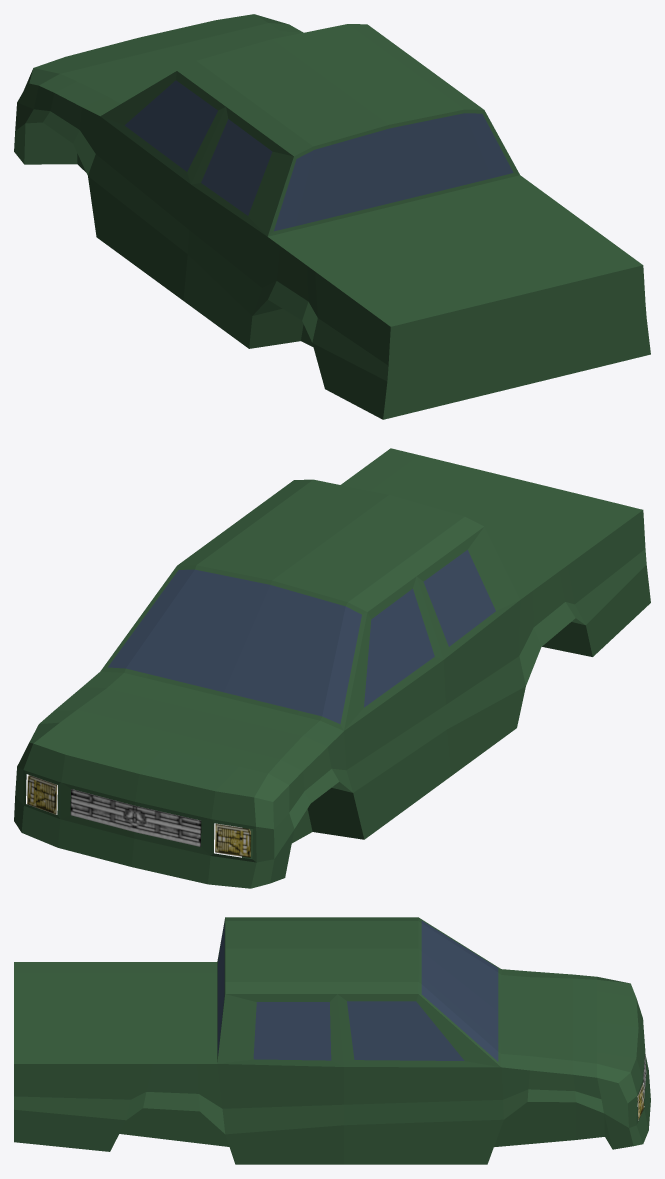
The model's file is lowPoly_car.gltf.
3 renders of one model, top to bottom at view 1: azimuth 30°, elevation 25°; view 2: azimuth 150°, elevation 25°; view 3: azimuth 270°, elevation 25°, orthographic. The views are drawn at different scales.
Visible parts, largest first — view 1: Cube; view 2: Cube; view 3: Cube.
Part boxes in pixels (bbox=[...]): Cube: bbox=[14, 14, 650, 419]; Cube: bbox=[14, 448, 650, 888]; Cube: bbox=[14, 917, 650, 1164].
Bounding box in the file's own units: 3.8 × 2.67 × 9.27.
Materials: 1 (1 with a texture image).
